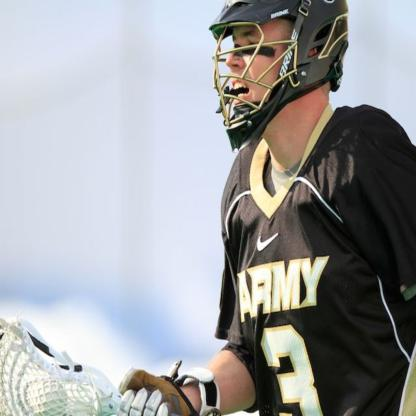Helmet: (211, 0, 349, 153)
